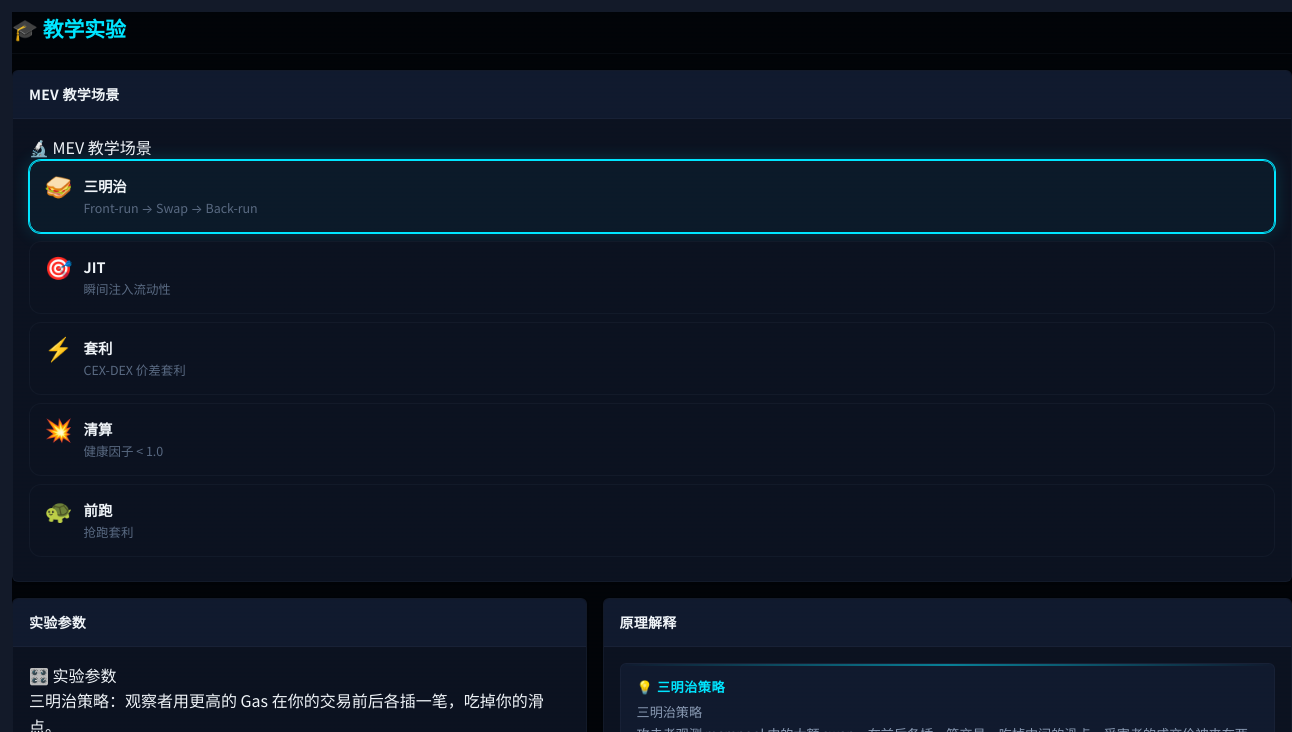
Test: EducationPage › clicking the JIT card rewrites the EduExplain headline text
The image size is (1292, 732).
Expected: the text with test id "edu-explain-headline" shows "三明治", [636, 702, 702, 721]
Click the button with test id "edu-scenario-jit": [127, 289] box [29, 241, 1275, 314]
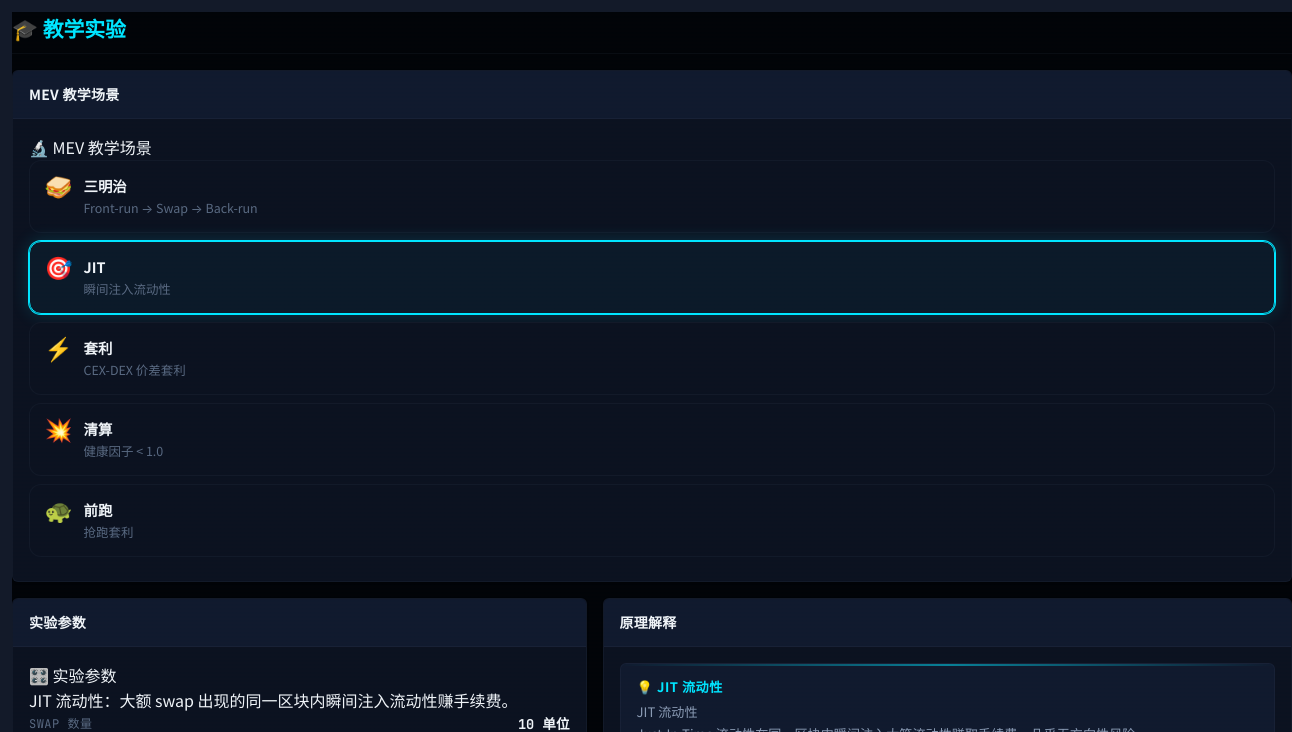
Expected: the text with test id "edu-explain-headline" shows "JIT", [636, 702, 698, 721]
